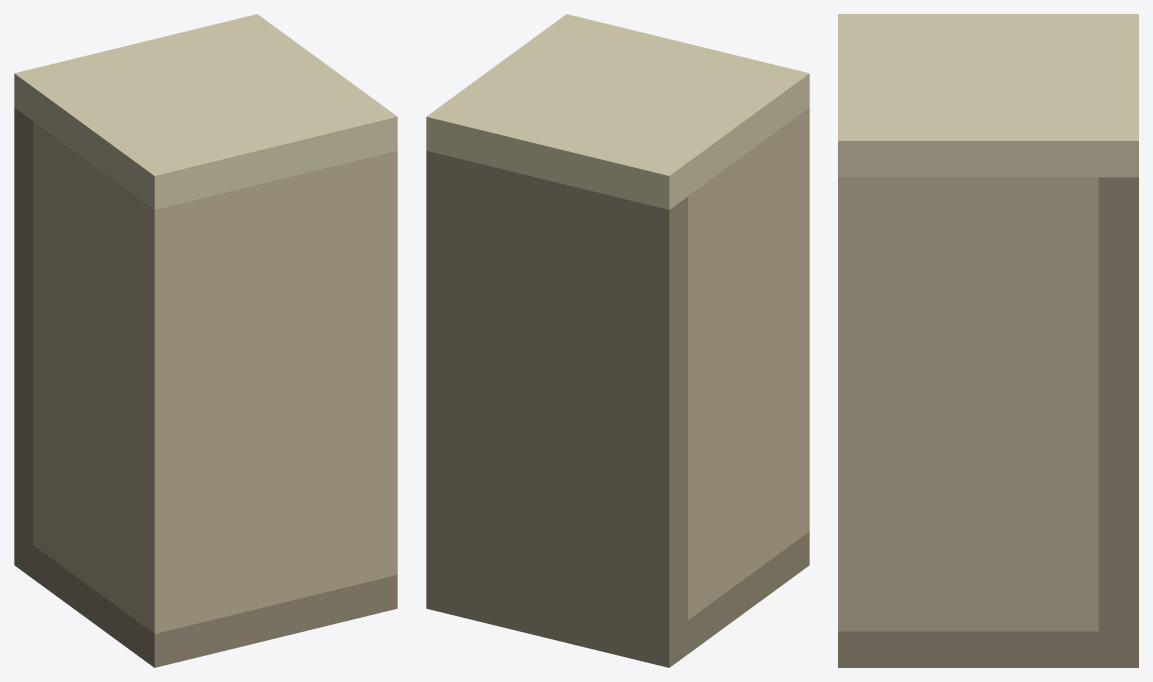
Rendered from estanteria_mercancias_pino_01.glb.
The picture shows the model from 3 angles, left to right: view 1: azimuth 30°, elevation 25°; view 2: azimuth 150°, elevation 25°; view 3: azimuth 270°, elevation 25°; orthographic projection. The views are drawn at different scales.
Parts seen in each view (by area): view 1: estanteria_mercancias_pino; view 2: estanteria_mercancias_pino; view 3: estanteria_mercancias_pino.
Boxes of the visible parts, bbox=[...] form: estanteria_mercancias_pino: bbox=[14, 14, 397, 667]; estanteria_mercancias_pino: bbox=[426, 14, 809, 667]; estanteria_mercancias_pino: bbox=[838, 14, 1138, 667].
Size of the model in its own units: 1 by 1.93 by 1.
